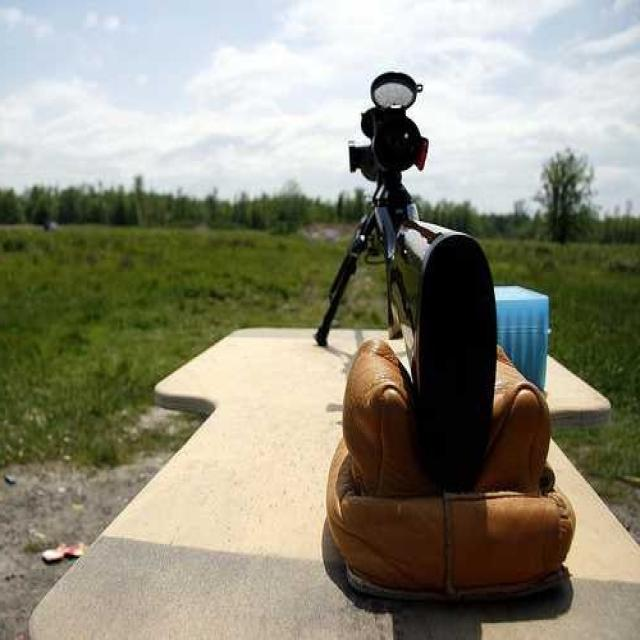heavyweapon: (287, 32, 521, 508)
